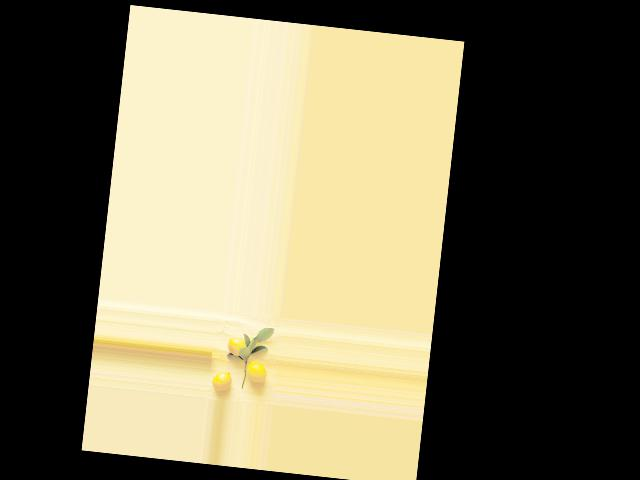lemon: (210, 368, 234, 395)
